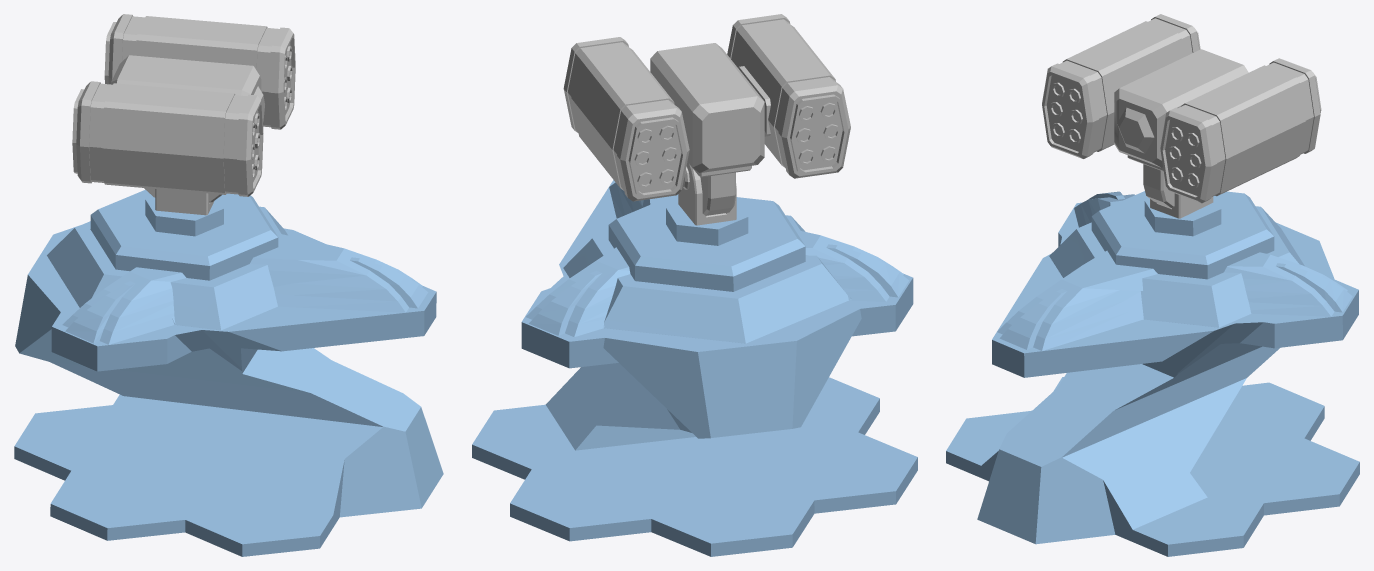
The model's file is SM_bld_NEWturrel_rocket.fbx.
The picture shows the model from 3 angles, left to right: view 1: azimuth 30°, elevation 25°; view 2: azimuth 150°, elevation 25°; view 3: azimuth 270°, elevation 25°; orthographic projection. The views are drawn at different scales.
Parts seen in each view (by area): view 1: TurretMount, rockets-top, mechanism; view 2: TurretMount, rockets-top, mechanism; view 3: TurretMount, rockets-top, mechanism.
Part boxes in pixels (x1,y1,x2,y2): TurretMount: (14,189,443,556); rockets-top: (72,14,295,202); mechanism: (155,189,214,215); TurretMount: (472,180,917,556); rockets-top: (563,14,850,215); mechanism: (678,162,736,225); TurretMount: (946,191,1359,556); rockets-top: (1042,14,1321,207); mechanism: (1150,193,1213,218).
Size of the model in its own units: 543 by 563 by 543.
